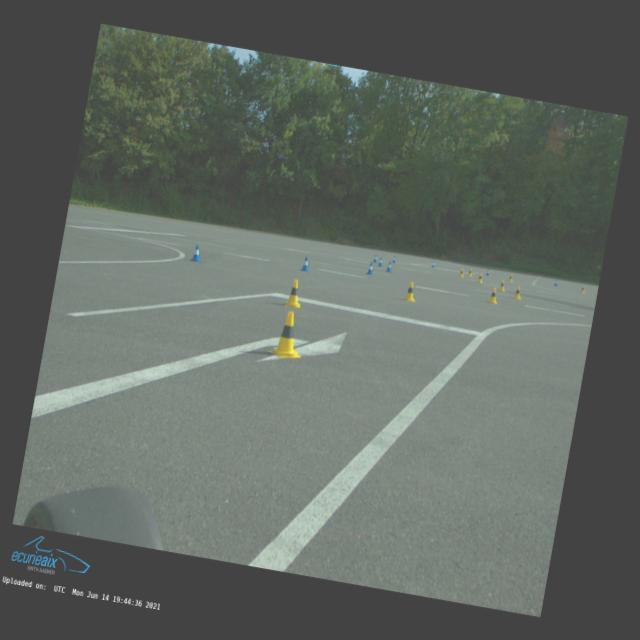blue_cone: (190, 244, 203, 262), (300, 256, 311, 272), (366, 262, 375, 274), (385, 260, 393, 272), (376, 256, 384, 266), (552, 278, 558, 286), (430, 260, 436, 268), (372, 254, 378, 262), (485, 268, 490, 276), (391, 255, 396, 263)
yellow_cone: (268, 308, 308, 361), (284, 278, 304, 308), (403, 280, 419, 302), (487, 286, 499, 304), (513, 284, 523, 300), (498, 278, 507, 292), (476, 272, 484, 283), (458, 268, 465, 278), (580, 284, 586, 294), (508, 274, 514, 282), (467, 268, 473, 276)
